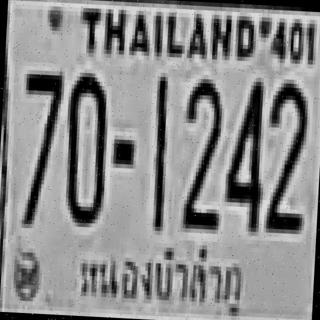N00: (62, 68, 108, 224)
N01: (149, 75, 170, 229)
N02: (262, 78, 308, 230), (180, 76, 223, 228)
N04: (221, 76, 266, 228)
N07: (17, 70, 62, 226), (18, 70, 62, 201), (19, 70, 62, 173)
P35: (72, 238, 250, 320)
